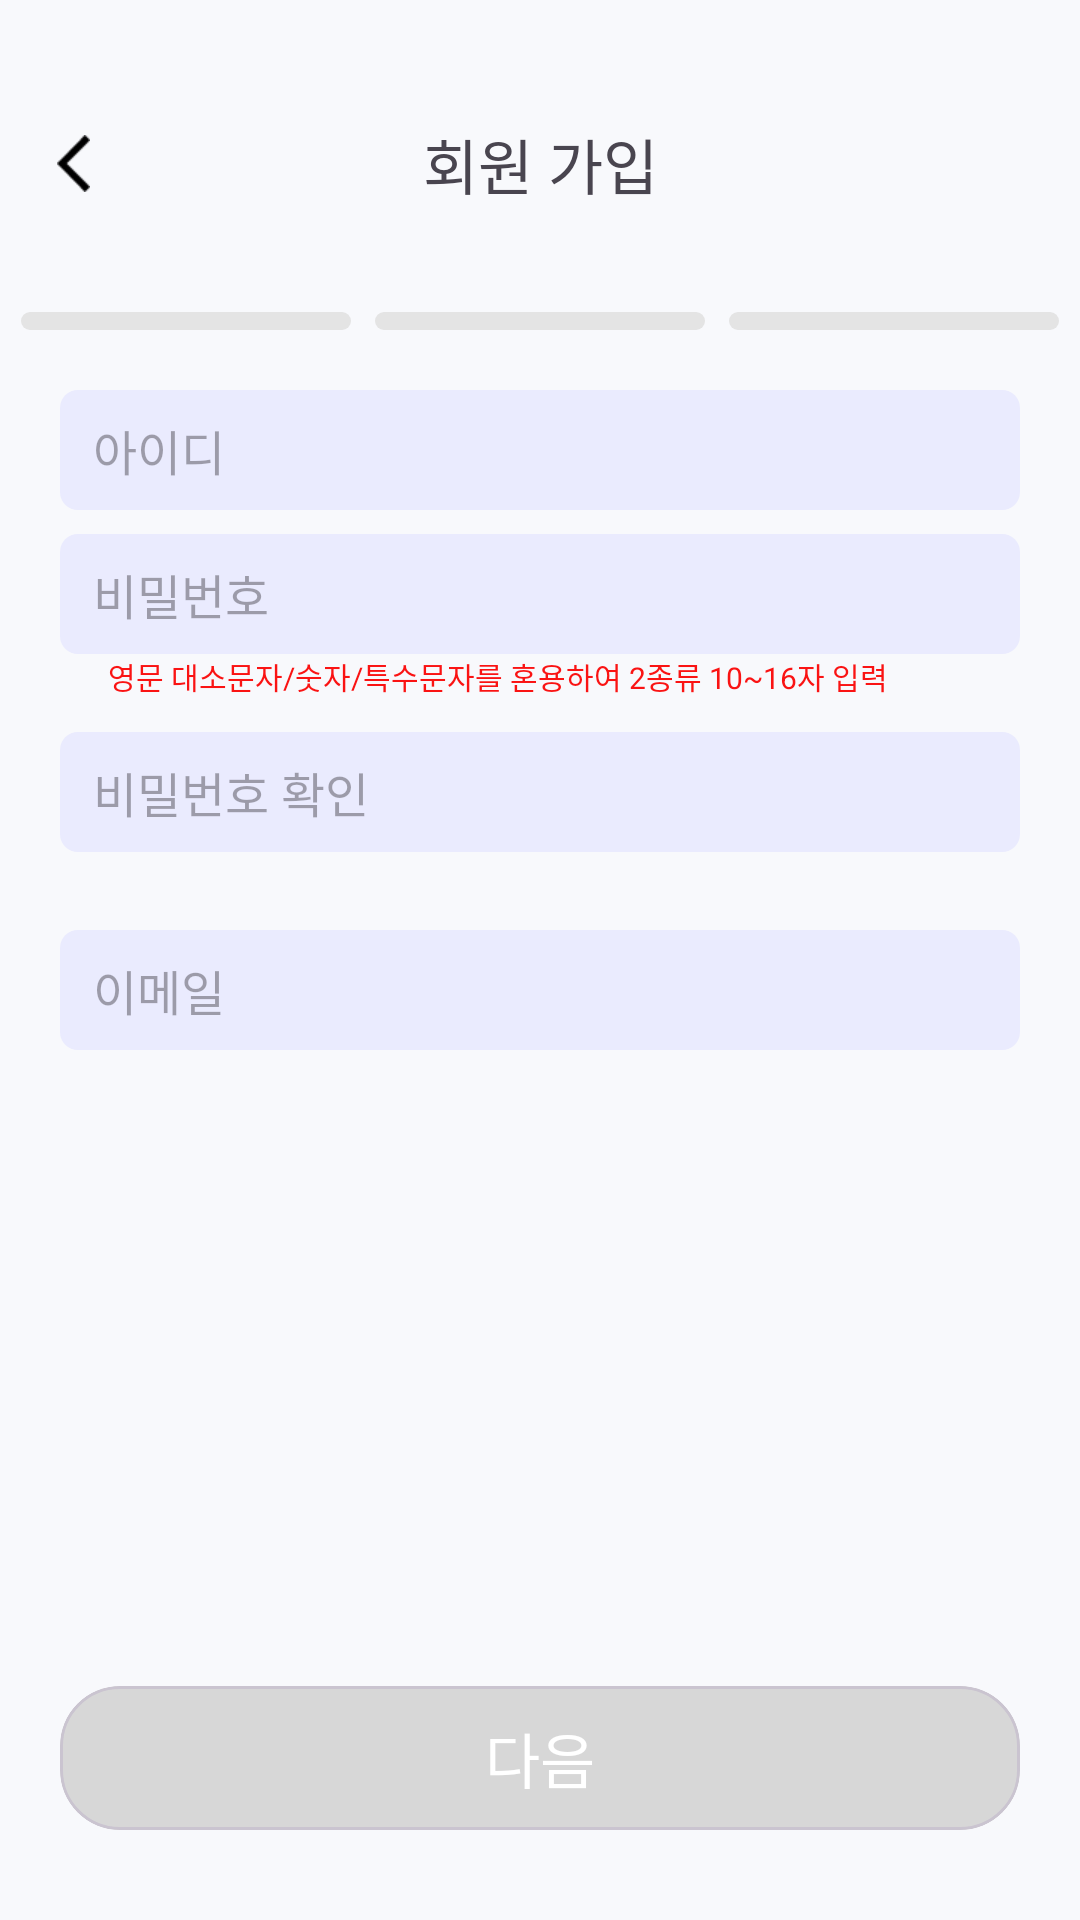

Screen size 1080*1920. Icon name, then its center in pixels as (x=x, y=y):
back: (x=73, y=163)
